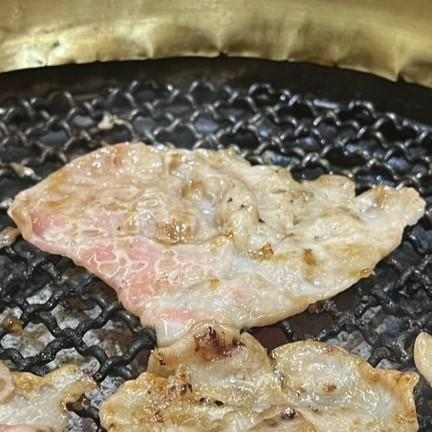Overcooked: (100, 324, 418, 431)
Undercooked: (9, 143, 426, 348)
Well-Cooked: (0, 362, 94, 431)
